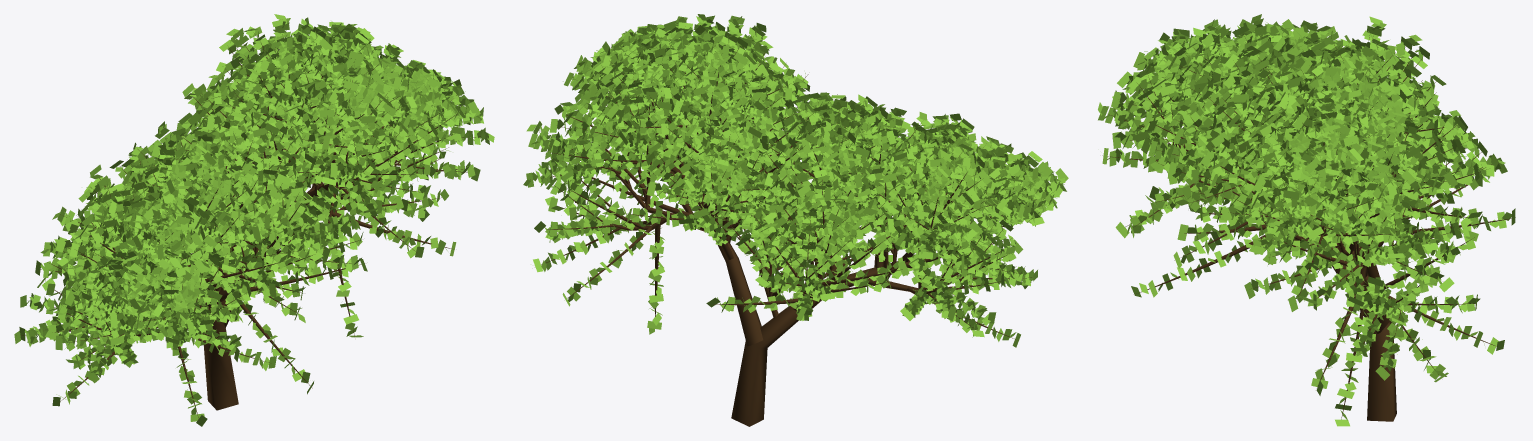
Rendered from arbol.fbx.
3 renders of one model, left to right at view 1: azimuth 30°, elevation 25°; view 2: azimuth 150°, elevation 25°; view 3: azimuth 270°, elevation 25°, orthographic. The views are drawn at different scales.
Visible parts, largest first — view 1: leaves, tree; view 2: leaves, tree; view 3: leaves, tree.
Part boxes in pixels (bbox=[...]): leaves: bbox=[14, 14, 494, 426]; tree: bbox=[21, 32, 480, 418]; leaves: bbox=[523, 14, 1068, 347]; tree: bbox=[530, 36, 1051, 426]; leaves: bbox=[1098, 14, 1515, 426]; tree: bbox=[1108, 32, 1515, 421].
Bounding box in the file's own units: 989 × 773 × 707.
